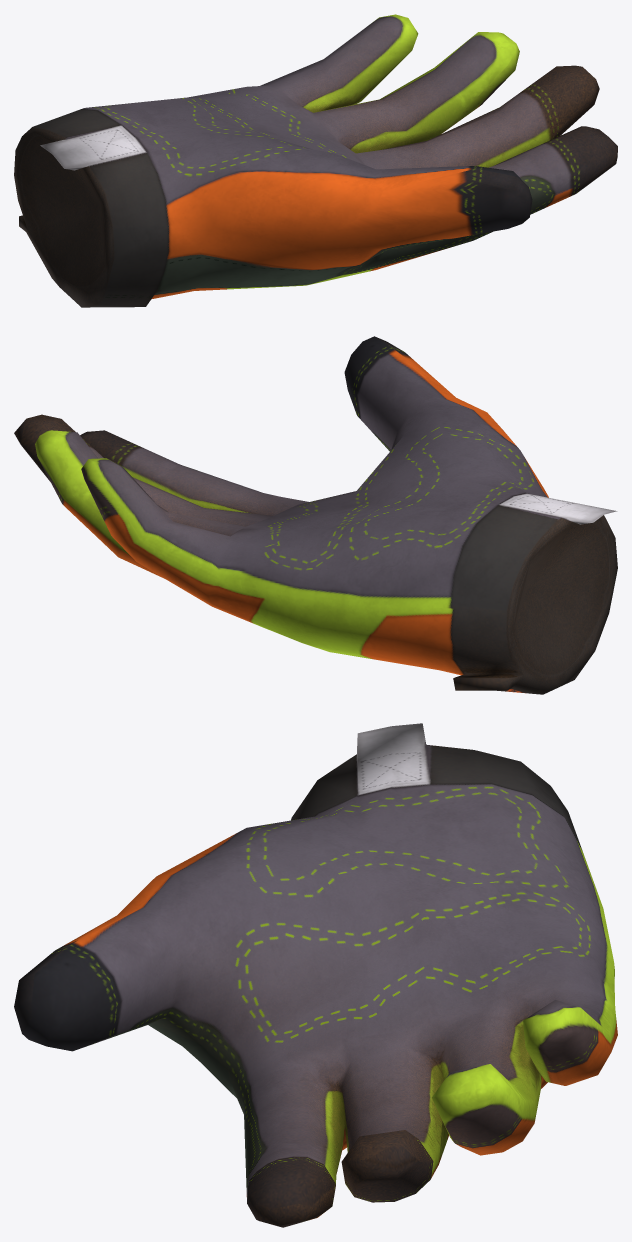
The model's file is SM_Safety_Gloves.fbx.
The picture shows the model from 3 angles, top to bottom: view 1: azimuth 30°, elevation 25°; view 2: azimuth 150°, elevation 25°; view 3: azimuth 270°, elevation 25°; orthographic projection. The views are drawn at different scales.
Parts seen in each view (by area): view 1: SM_Safety_Gloves; view 2: SM_Safety_Gloves; view 3: SM_Safety_Gloves.
Part boxes in pixels (x1,y1,x2,y2): SM_Safety_Gloves: [14, 14, 617, 307]; SM_Safety_Gloves: [14, 336, 617, 694]; SM_Safety_Gloves: [14, 723, 617, 1227].
Size of the model in its own units: 0.2278 by 0.1573 by 0.0675.
